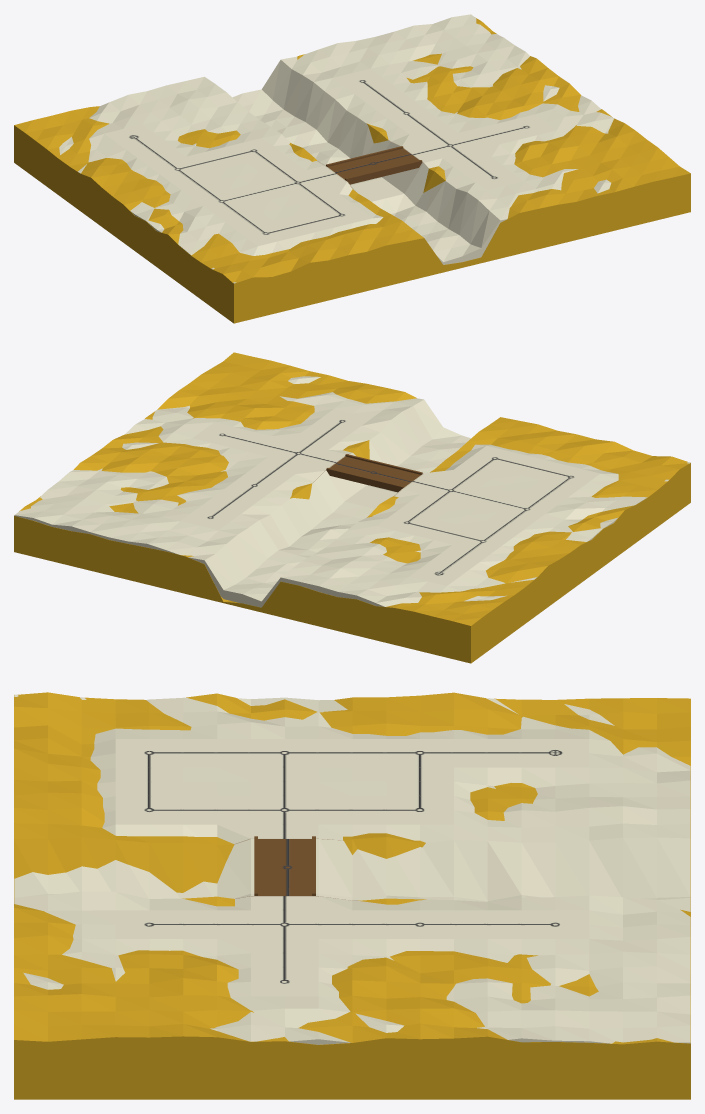
File: Nivell2.FBX
3 renders of one model, top to bottom at view 1: azimuth 30°, elevation 25°; view 2: azimuth 150°, elevation 25°; view 3: azimuth 270°, elevation 25°, orthographic. The views are drawn at different scales.
Visible parts, largest first — view 1: Plane001; view 2: Plane001; view 3: Plane001.
Boxes of the visible parts, <box> form: Plane001: <box>14,14,690,323</box>; Plane001: <box>14,352,690,663</box>; Plane001: <box>14,692,690,1099</box>.
Bounding box in the file's own units: 30.03 × 2.66 × 25.02.
1 material, 1 textured.
